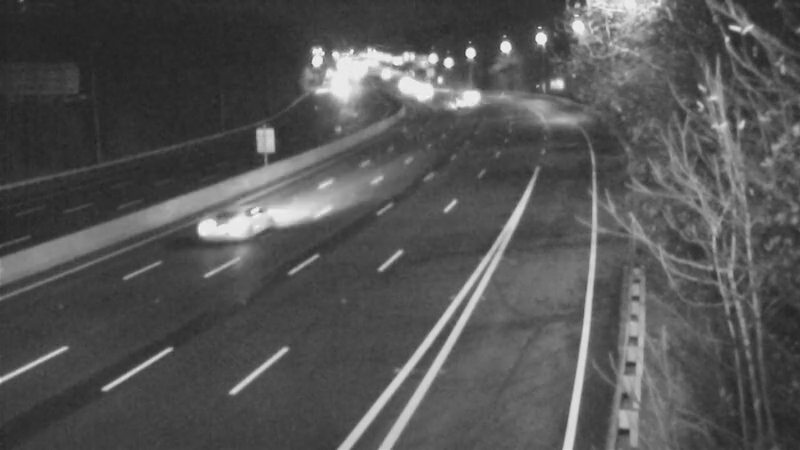vehicle: (183, 187, 263, 267), (445, 72, 495, 122), (429, 75, 479, 125)
